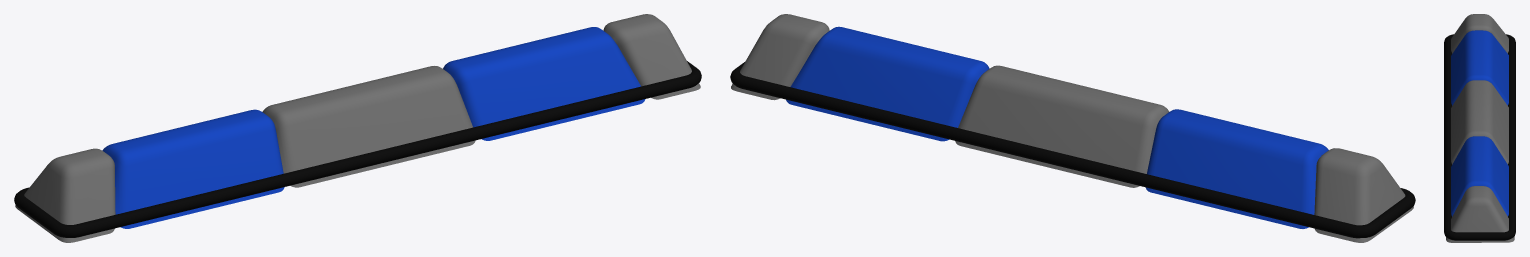
File: TrackTopLamb.fbx
The picture shows the model from 3 angles, left to right: view 1: azimuth 30°, elevation 25°; view 2: azimuth 150°, elevation 25°; view 3: azimuth 270°, elevation 25°; orthographic projection. The views are drawn at different scales.
Parts seen in each view (by area): view 1: TopLamb; view 2: TopLamb; view 3: TopLamb.
Boxes of the visible parts, bbox=[...] form: TopLamb: bbox=[14, 14, 701, 242]; TopLamb: bbox=[730, 14, 1415, 242]; TopLamb: bbox=[1444, 14, 1515, 242].
Bounding box in the file's own units: 107 × 9.2 × 16.
